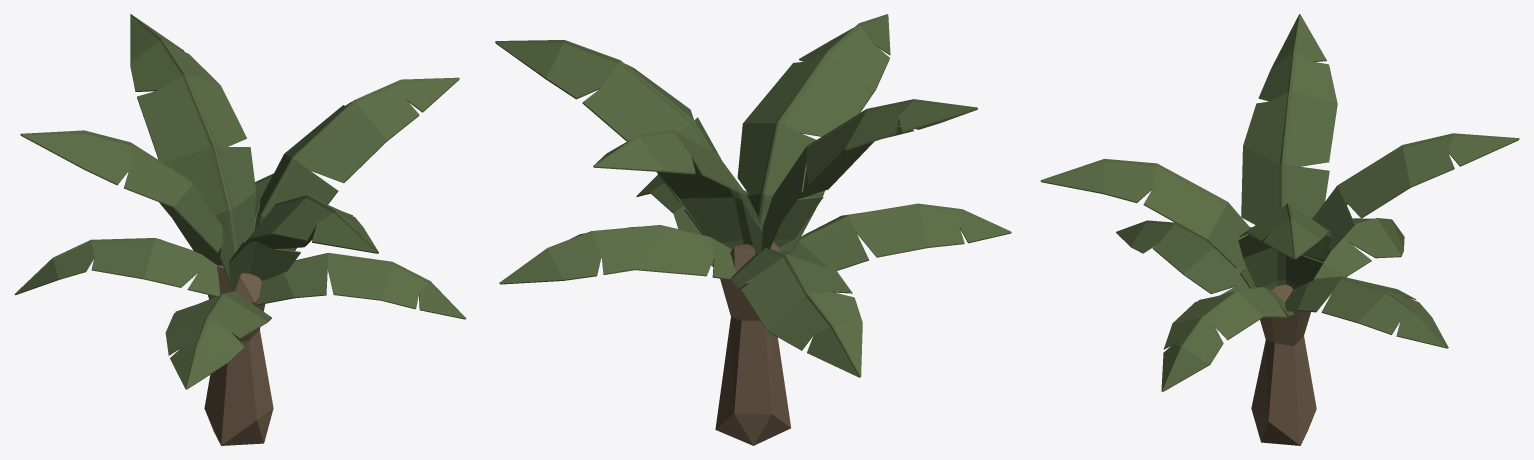
The model's file is SM_Envr_Nature_Tree_Palm_01.fbx.
3 views of the same model, side by side, from view 1: azimuth 30°, elevation 25°; view 2: azimuth 150°, elevation 25°; view 3: azimuth 270°, elevation 25° (orthographic). The views are drawn at different scales.
Parts seen in each view (by area): view 1: SM_Envr_Nature_Tree_Palm_01; view 2: SM_Envr_Nature_Tree_Palm_01; view 3: SM_Envr_Nature_Tree_Palm_01.
Part boxes in pixels (x1,y1,x2,y2): SM_Envr_Nature_Tree_Palm_01: [14, 14, 466, 445]; SM_Envr_Nature_Tree_Palm_01: [495, 14, 1011, 445]; SM_Envr_Nature_Tree_Palm_01: [1040, 14, 1519, 445].
Bounding box in the file's own units: 397 × 304 × 404.
